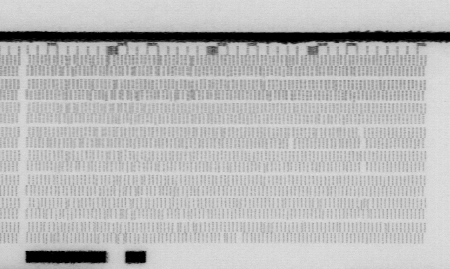Broken hole: (356, 127, 369, 151), (286, 136, 298, 150), (358, 160, 370, 173), (234, 232, 245, 243)
Oblique printing: (42, 125, 165, 245), (30, 53, 204, 99), (47, 100, 150, 125), (179, 160, 302, 176), (318, 77, 359, 103), (169, 219, 207, 242), (261, 78, 295, 101), (203, 79, 233, 100), (356, 197, 378, 219), (278, 54, 295, 79), (212, 125, 228, 150), (295, 221, 309, 234), (311, 196, 325, 209), (217, 232, 230, 245), (379, 222, 392, 235), (312, 127, 325, 140)
